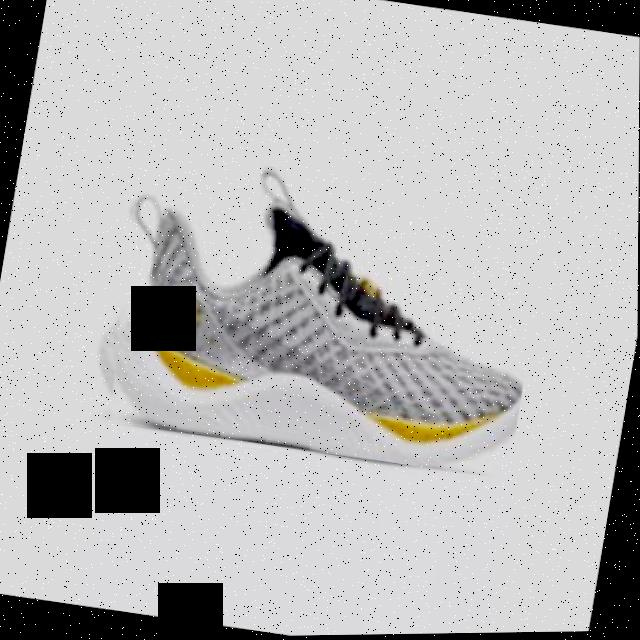shoe: (94, 143, 554, 486)
